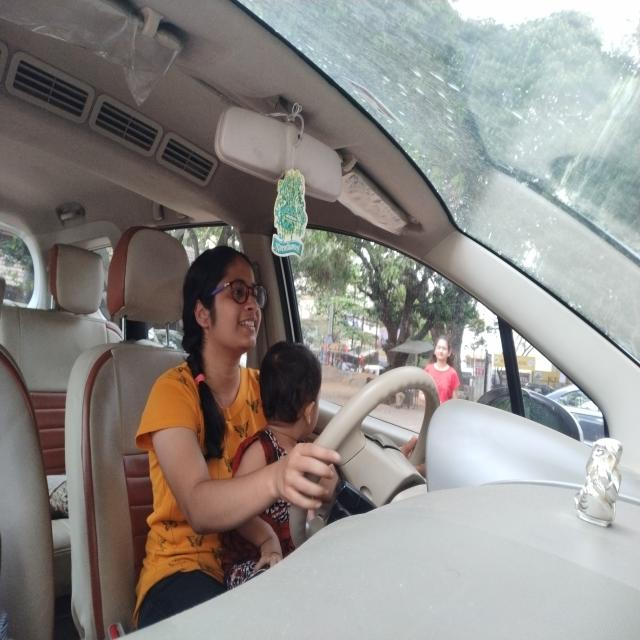child: (264, 334, 328, 463)
person: (170, 231, 270, 379)
